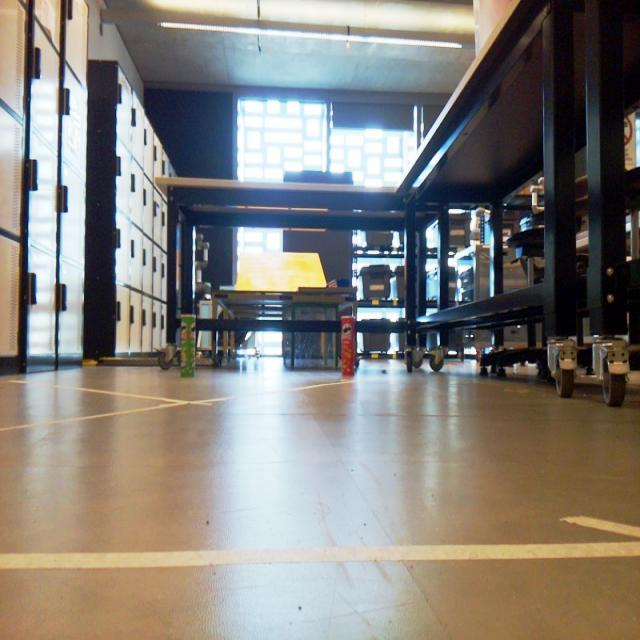greenpringles: (174, 305, 208, 383)
redpringles: (335, 305, 362, 381)
